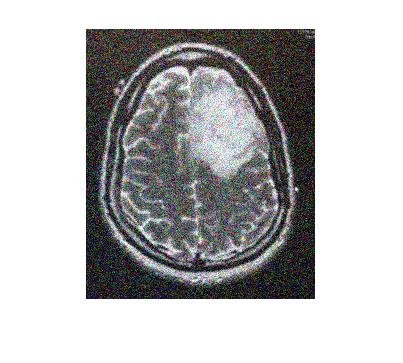Brain_Cancer: (192, 85, 262, 168)
